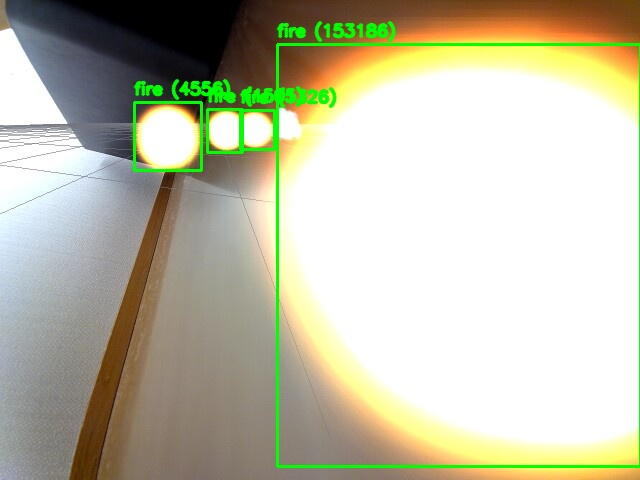fire: (277, 44, 640, 466), (134, 102, 201, 170), (207, 109, 242, 152), (240, 110, 274, 149)
